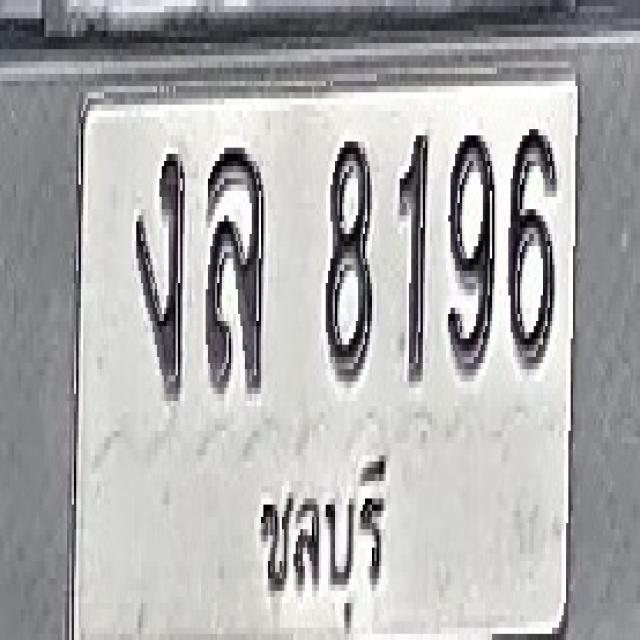-: (206, 141, 264, 394), (134, 145, 185, 397)
1: (398, 129, 428, 382)
6: (507, 123, 556, 369)
8: (325, 136, 373, 382)
9: (447, 126, 493, 372)
CBI: (251, 433, 391, 629)
